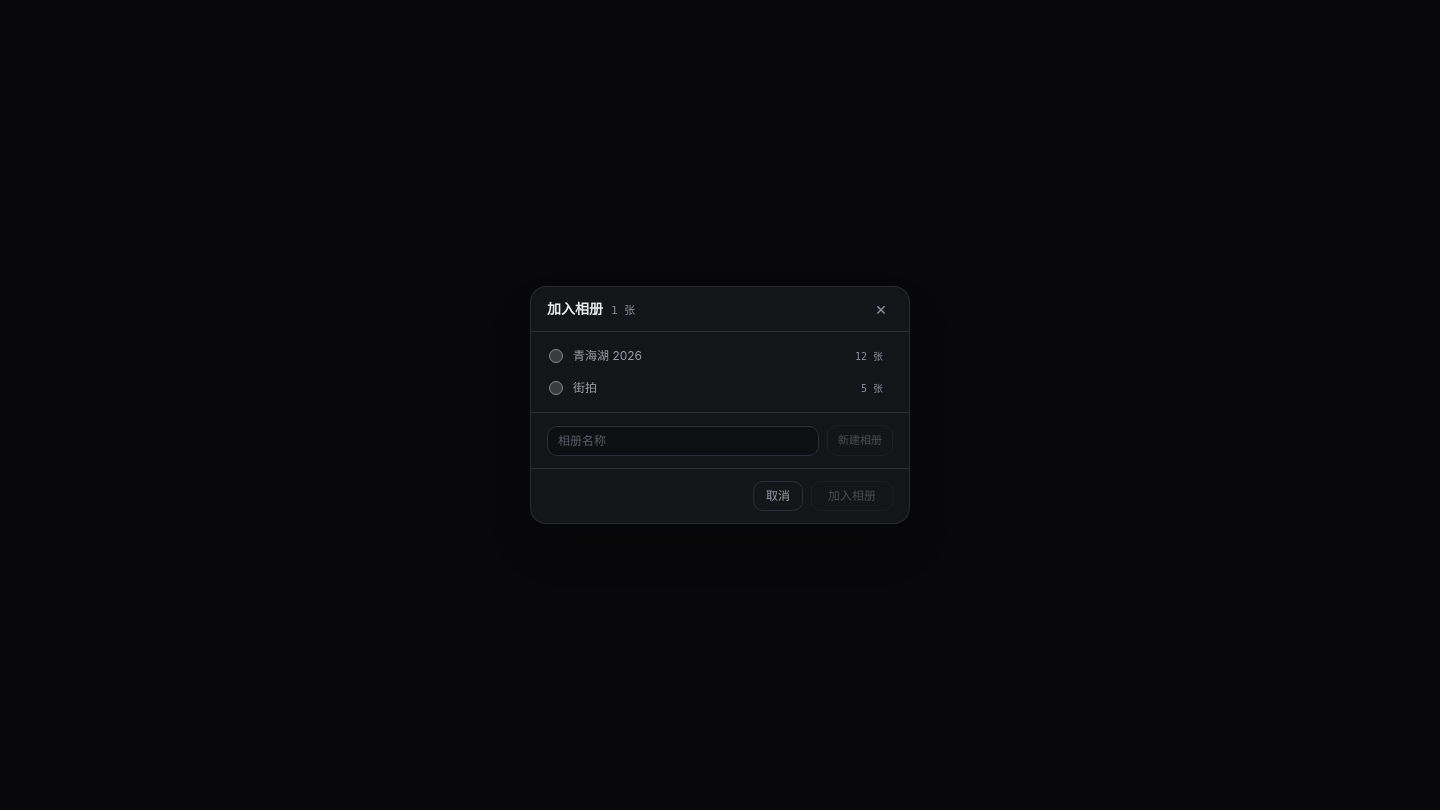
Test: 加入相册弹窗 › album_add_assets 失败（null）→ 加入失败文案
Click the label with test id "add-to-album-option" showing "青海湖 2026 12 张" at point(608, 356), box 549,348 -> 883,363
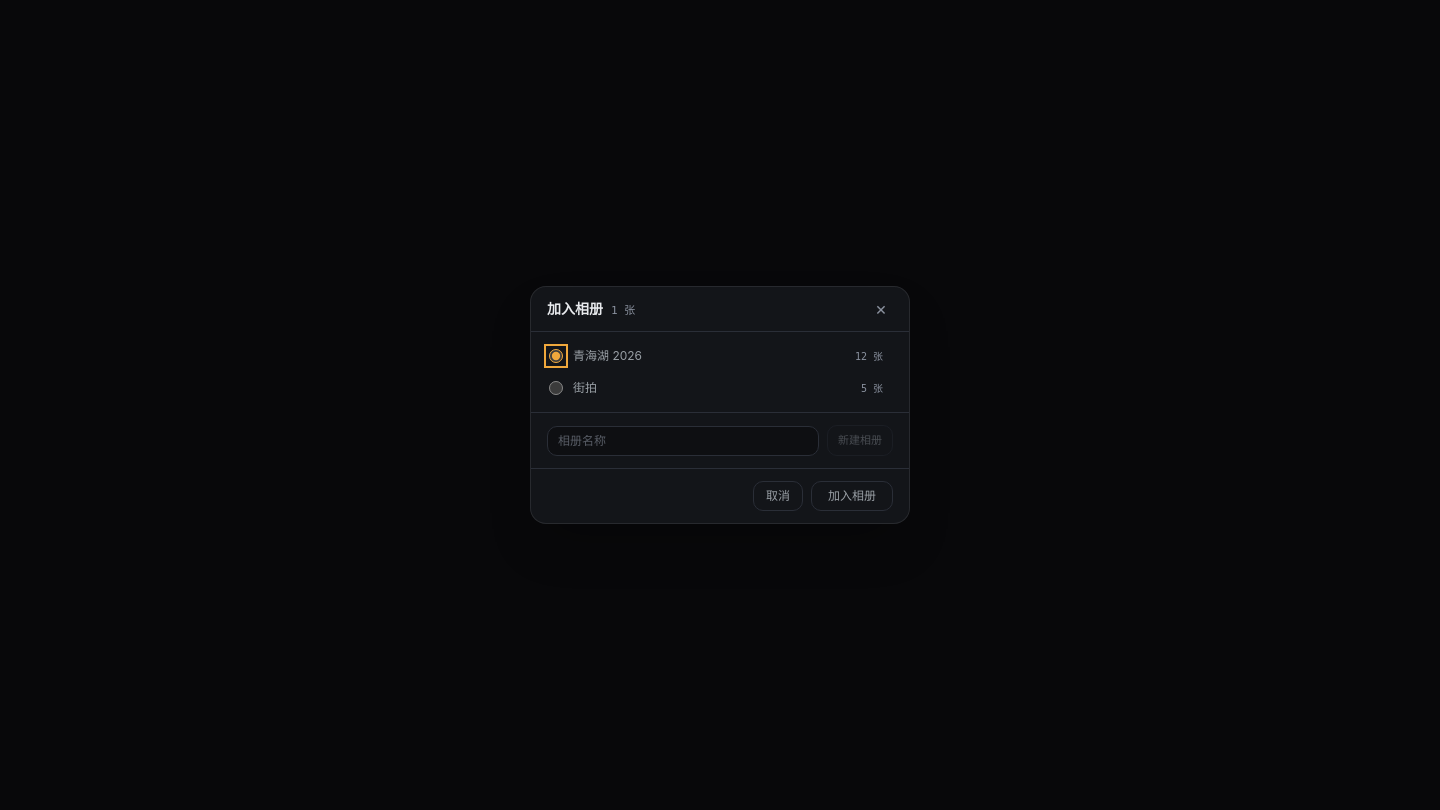
Click the button with test id "add-to-album-confirm" at point(852, 496), box 811,481 -> 893,511
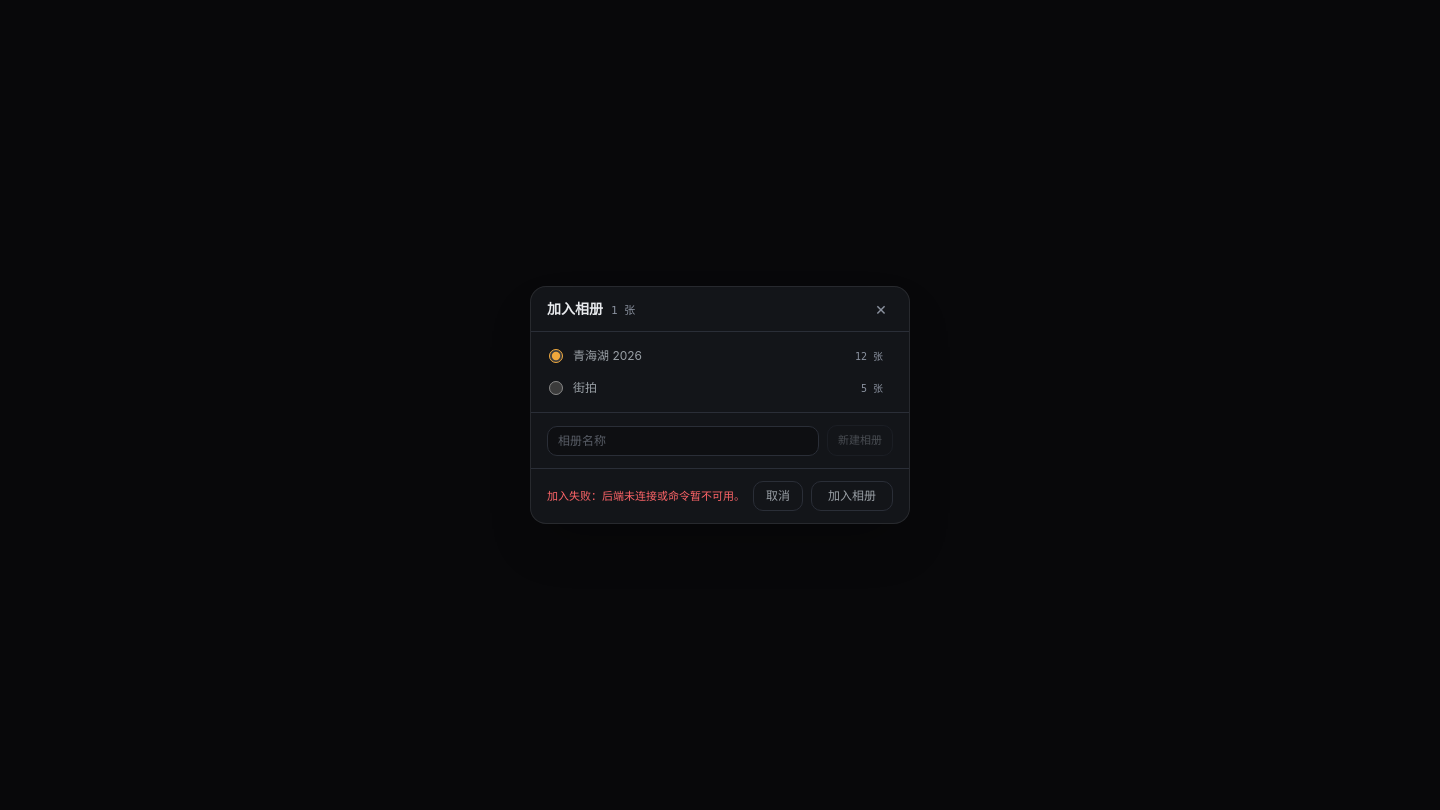
Check: the message with test id "add-to-album-error" shows "加入失败", box 547,488 -> 745,502
